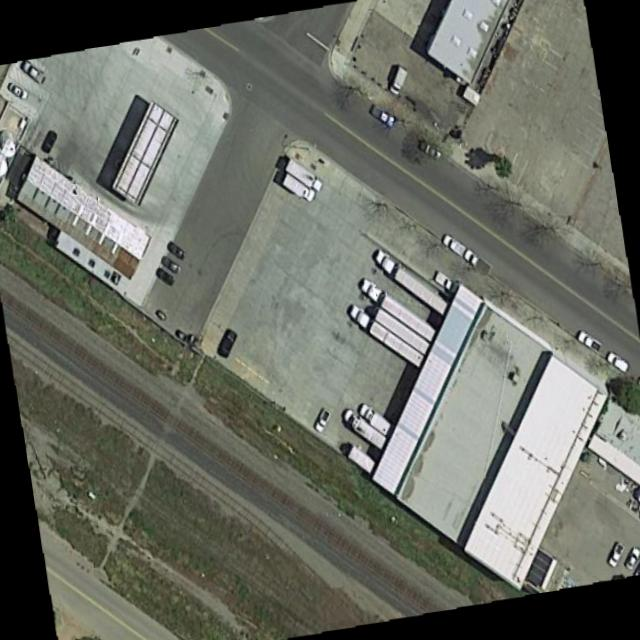large-vehicle: (360, 280, 436, 344), (375, 251, 447, 317), (351, 305, 423, 370), (374, 309, 430, 358), (343, 408, 388, 452), (358, 404, 395, 439), (286, 161, 324, 195), (348, 446, 379, 479), (283, 176, 315, 204), (370, 106, 395, 129), (390, 68, 408, 97)
small-vehicle: (465, 250, 493, 275), (435, 272, 462, 296), (216, 329, 237, 359), (20, 60, 44, 85), (444, 235, 469, 259), (419, 140, 443, 163), (578, 332, 602, 354), (608, 352, 630, 375), (607, 542, 625, 569), (313, 409, 332, 434), (41, 131, 58, 156), (8, 83, 28, 103), (624, 547, 640, 572), (162, 257, 180, 276), (156, 270, 174, 288), (168, 243, 185, 260)
